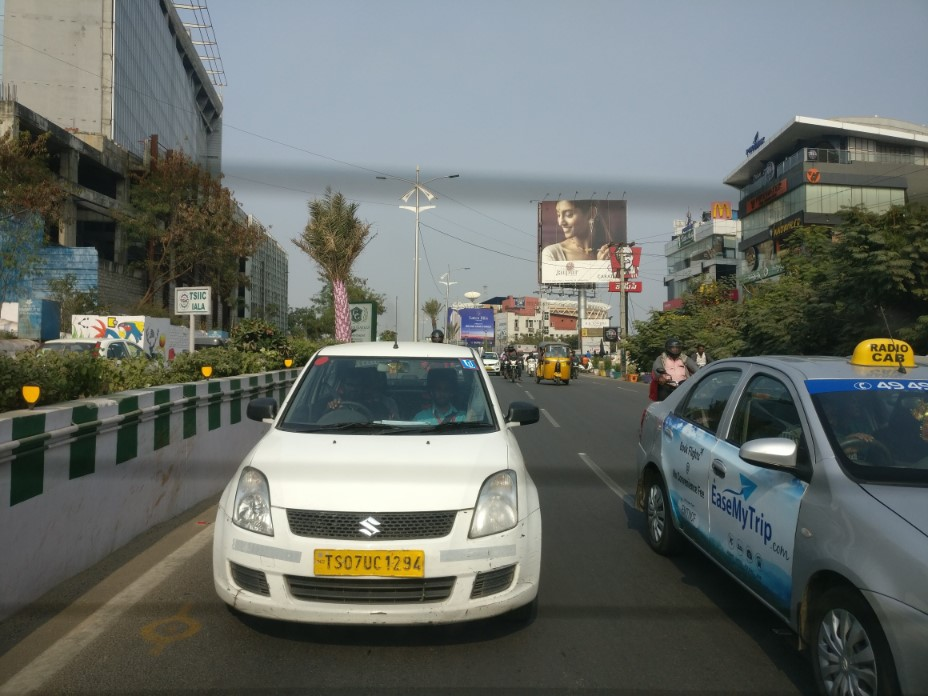swift desire: (219, 343, 544, 623)
